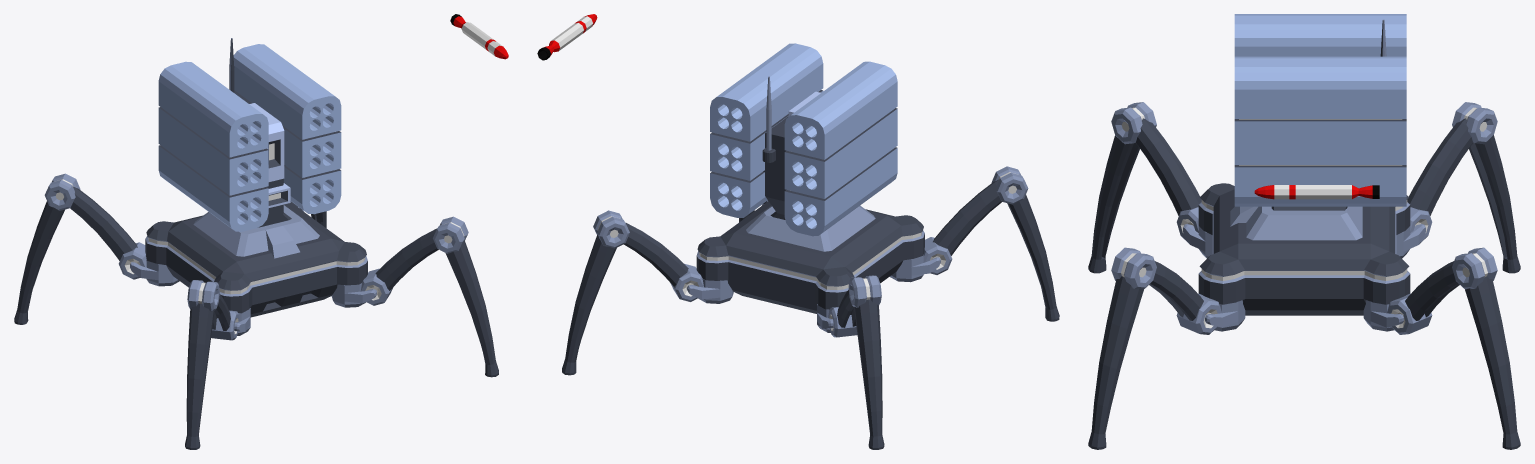
Rendered from droid.fbx.
3 renders of one model, left to right at view 1: azimuth 30°, elevation 25°; view 2: azimuth 150°, elevation 25°; view 3: azimuth 270°, elevation 25°, orthographic. The views are drawn at different scales.
Visible parts, largest first — view 1: Cube.003, Cube, Cube.020, Cube.002, Cube.011, Cube.022, Cube.025, Cube.012, Cylinder, Cylinder.056, Cylinder.066, Cylinder.054 (+4 smaller); view 2: Cube.003, Cube, Cube.022, Cube.021, Cube.002, Cube.020, Cube.023, Cube.024, Cylinder.055, Cylinder.054, Cylinder.066, Cylinder.056 (+4 smaller); view 3: Cube.003, Cube, Cube.021, Cube.011, Cube.022, Cube.020, Cube.025, Cube.023, Cylinder.066, Cube.024, Cube.012, Cylinder.055 (+12 smaller).
Boxes of the visible parts, x1,y1,x2,y2 form: Cube.003: [158, 44, 341, 231]; Cube: [145, 201, 367, 317]; Cube.020: [185, 303, 214, 449]; Cube.002: [229, 38, 291, 227]; Cube.011: [445, 240, 498, 377]; Cube.022: [14, 201, 64, 324]; Cube.025: [70, 186, 137, 260]; Cube.012: [375, 228, 438, 290]; Cylinder: [433, 216, 468, 253]; Cylinder.056: [44, 173, 80, 210]; Cylinder.066: [450, 14, 508, 59]; Cylinder.054: [187, 280, 219, 311]; Cube.003: [710, 43, 897, 236]; Cube: [696, 200, 924, 313]; Cube.022: [854, 299, 884, 449]; Cube.021: [562, 235, 616, 375]; Cube.002: [762, 76, 820, 219]; Cube.020: [1007, 195, 1059, 321]; Cube.023: [933, 179, 1001, 255]; Cube.024: [624, 223, 688, 286]; Cylinder.055: [593, 210, 629, 248]; Cylinder.054: [991, 166, 1028, 204]; Cylinder.066: [537, 14, 597, 60]; Cylinder.056: [848, 275, 881, 307]; Cube.003: [1234, 14, 1406, 206]; Cube: [1198, 183, 1410, 315]; Cube.021: [1465, 276, 1520, 449]; Cube.011: [1088, 276, 1143, 449]; Cube.022: [1469, 135, 1520, 273]; Cube.020: [1088, 135, 1139, 273]; Cube.025: [1407, 118, 1473, 215]; Cube.023: [1135, 118, 1201, 215]; Cylinder.066: [1254, 185, 1379, 199]; Cube.024: [1405, 261, 1459, 320]; Cube.012: [1149, 261, 1203, 320]; Cylinder.055: [1452, 247, 1497, 289].
Size of the model in its own units: 4.72 by 4.12 by 5.96.
